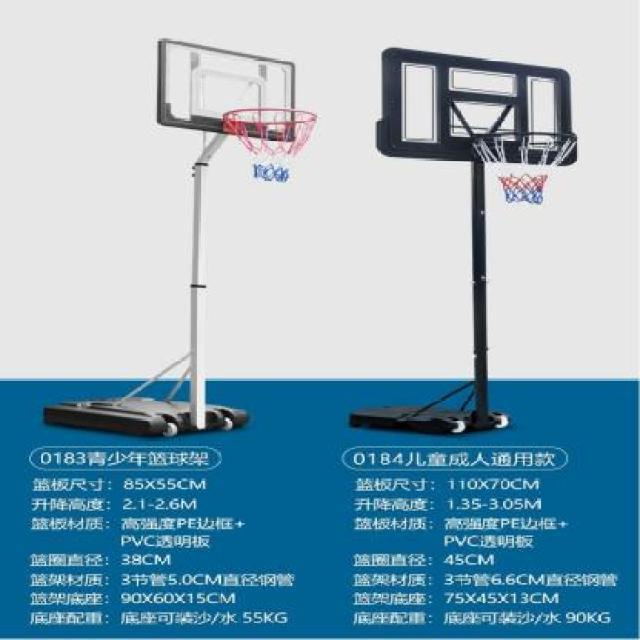rim: (468, 132, 576, 206), (225, 108, 319, 184)
